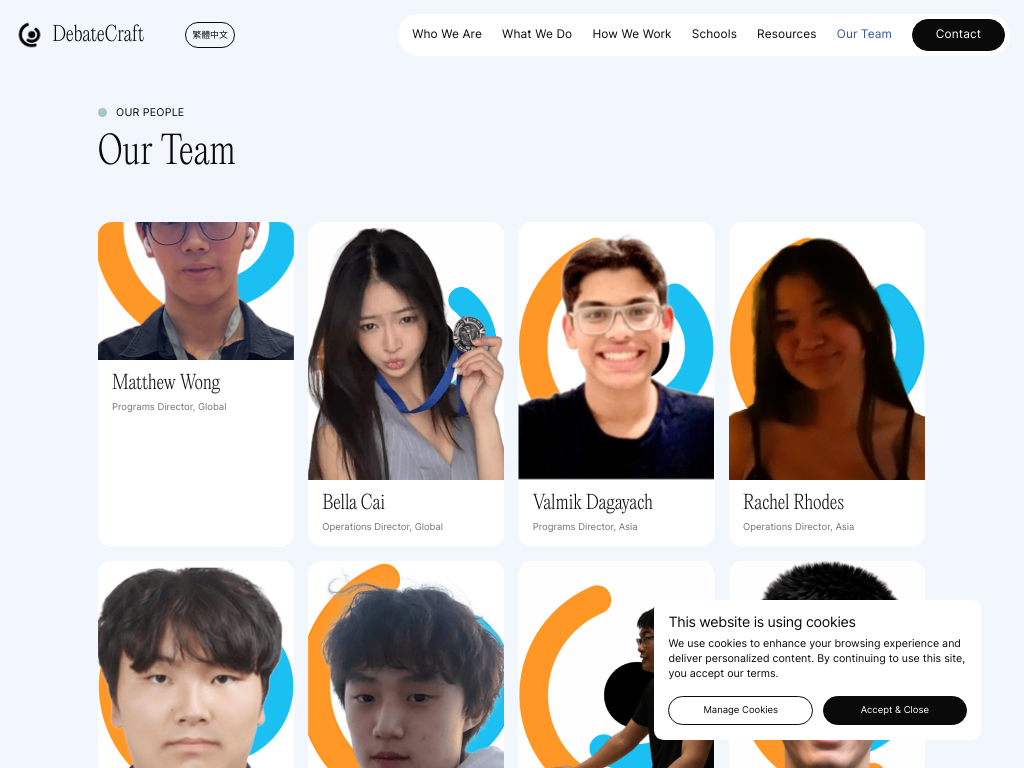
it: a biography keeps keyboard focus inside, locks scrolling, and Escape returns to its card
(page scrolled)
Click the button with aria-label "View biography for Matthew Wong": {"x": 166, "y": 384} x1=112 y1=374 x2=220 y2=395
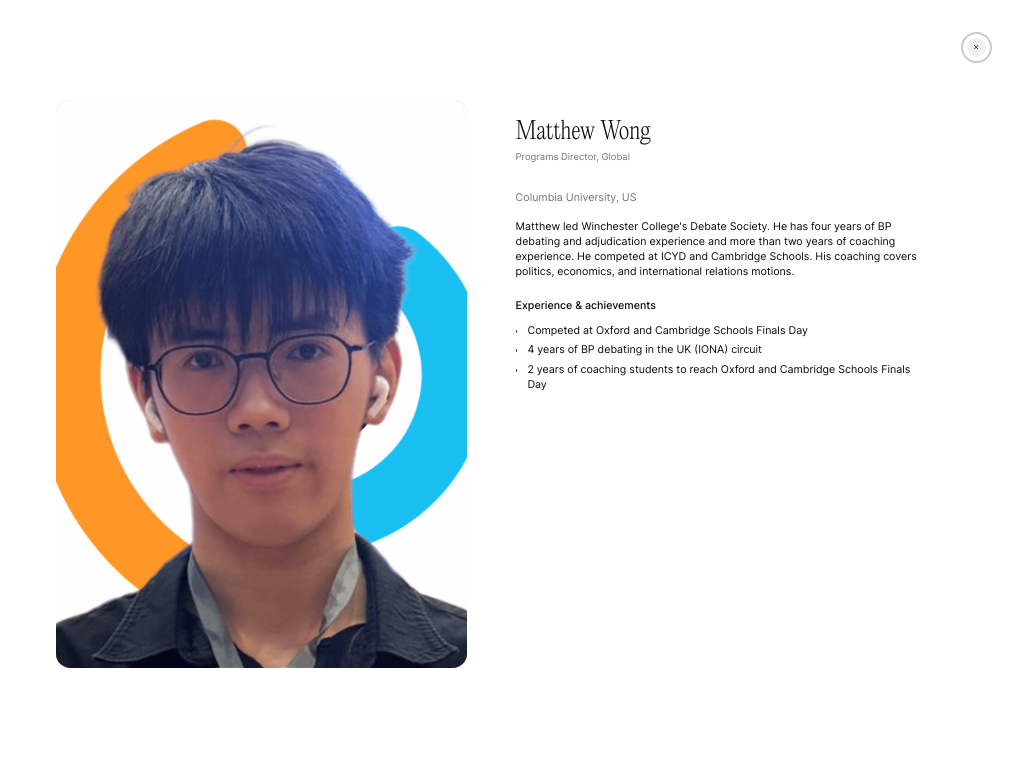
Press Tab
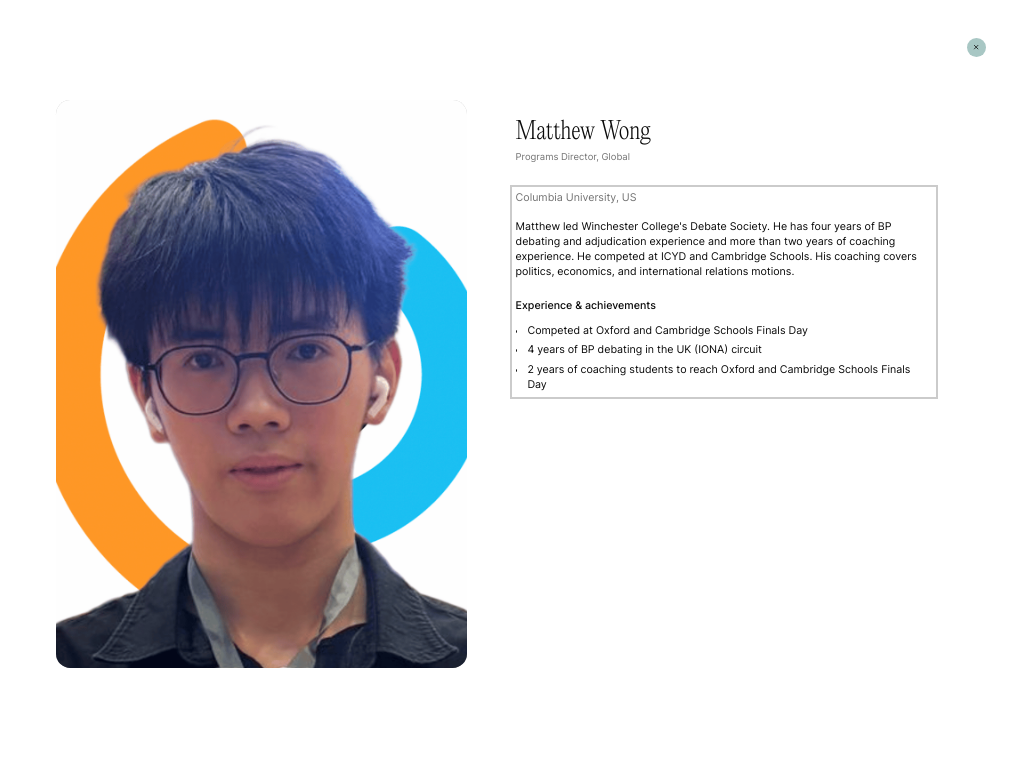
Press Shift+Tab
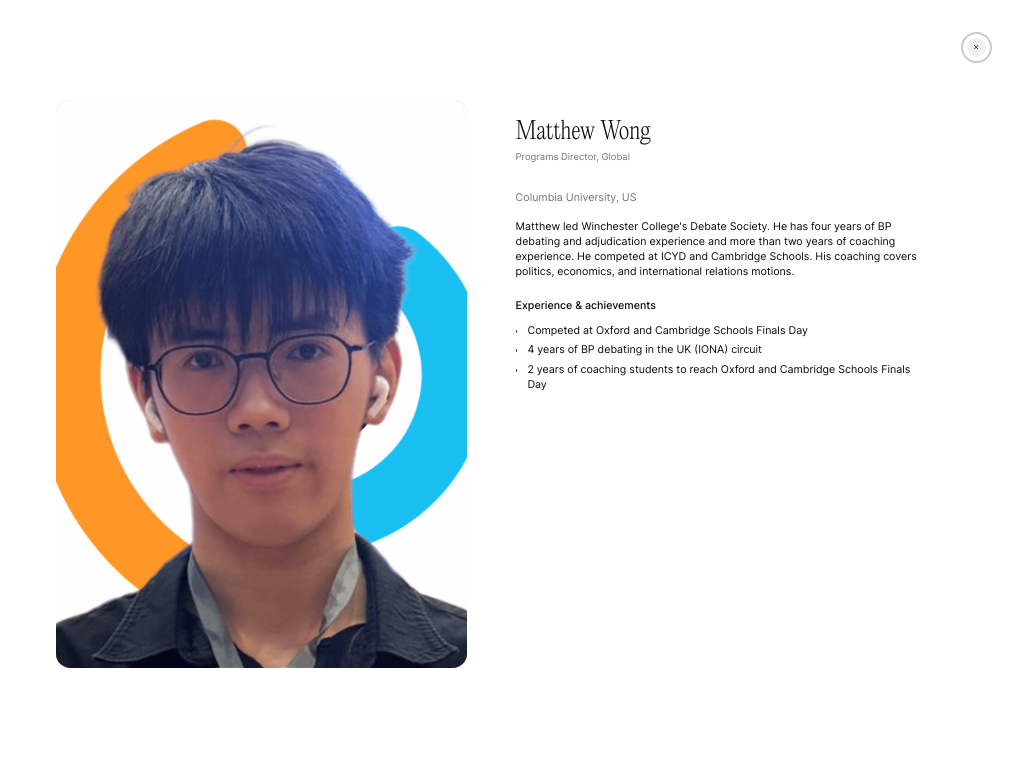
Press Escape
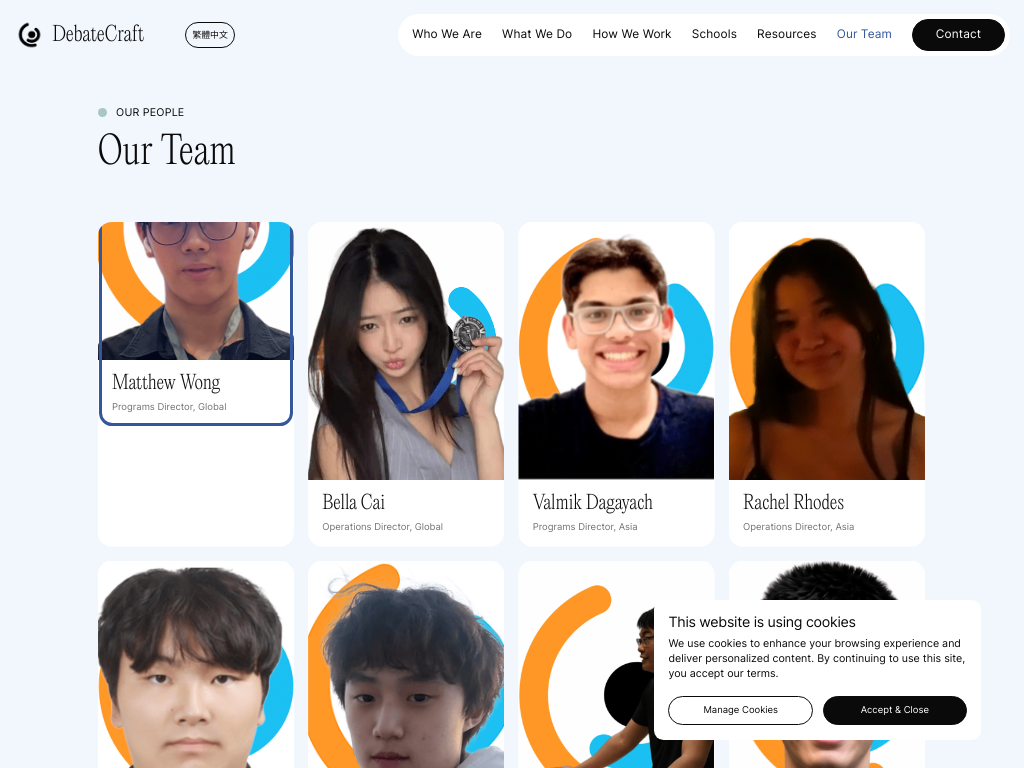
Expected: the dialog is gone
